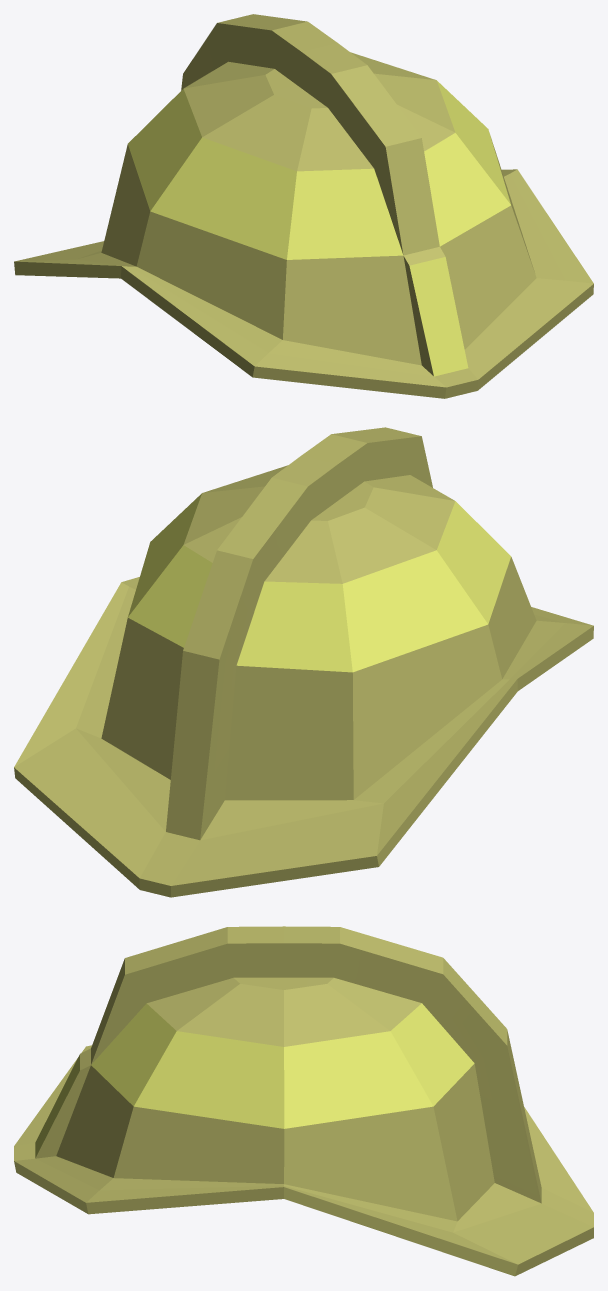
Rendered from Firefighter_Helmet.fbx.
3 views of the same model, one above another, from view 1: azimuth 30°, elevation 25°; view 2: azimuth 150°, elevation 25°; view 3: azimuth 270°, elevation 25° (orthographic). The views are drawn at different scales.
Parts seen in each view (by area): view 1: Firefighter_Helmet; view 2: Firefighter_Helmet; view 3: Firefighter_Helmet.
Part boxes in pixels (box(x1,y1,x2,y2)): Firefighter_Helmet: box(14, 14, 593, 398); Firefighter_Helmet: box(14, 427, 593, 897); Firefighter_Helmet: box(14, 926, 593, 1276).
Bounding box in the file's own units: 23.39 × 17.66 × 31.35.
